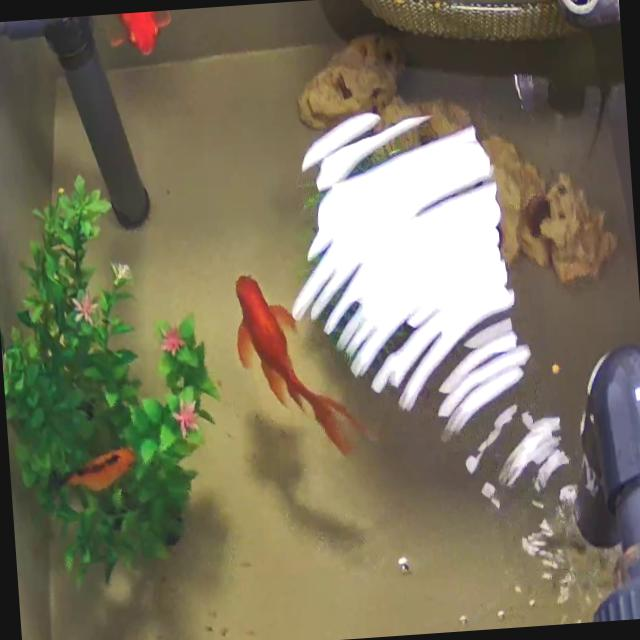fish: (234, 265, 356, 464), (60, 446, 139, 495), (106, 10, 173, 58)
